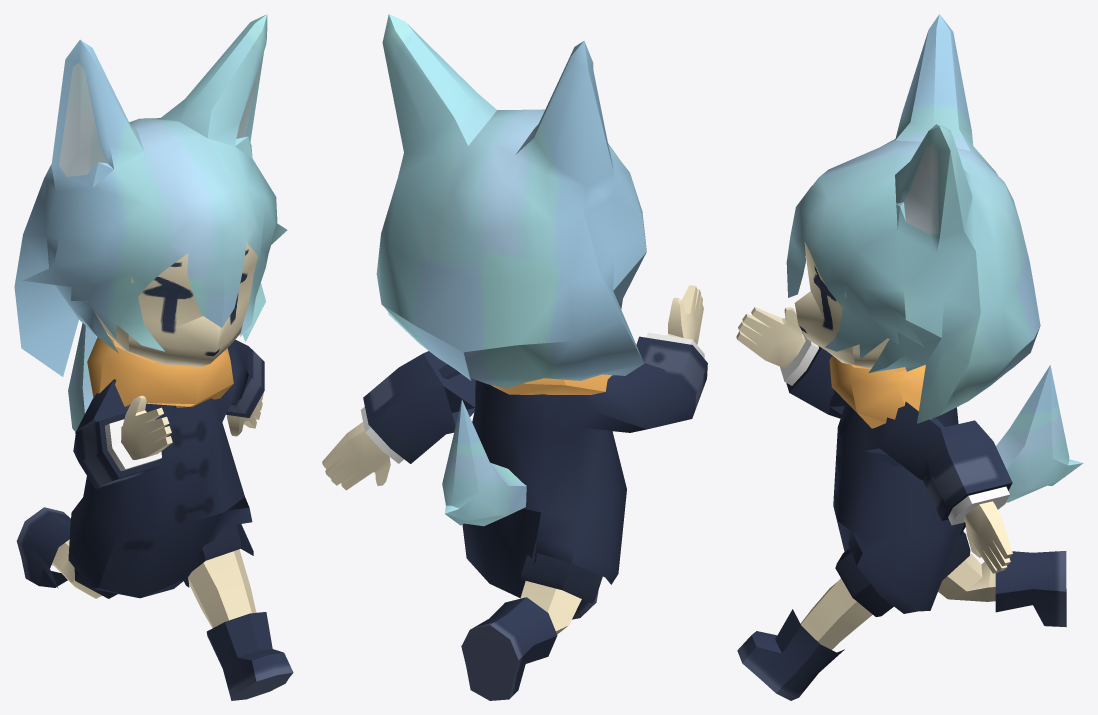
3 renders of one model, left to right at view 1: azimuth 30°, elevation 25°; view 2: azimuth 150°, elevation 25°; view 3: azimuth 270°, elevation 25°, orthographic. The views are drawn at different scales.
Visible parts, largest first — view 1: objMesh; view 2: objMesh; view 3: objMesh.
Part boxes in pixels (x1,y1,x2,y2): objMesh: (14,14,293,700); objMesh: (322,14,707,700); objMesh: (736,14,1083,700).
Bounding box in the file's own units: 222 × 474 × 235.
1 material, 1 textured.
